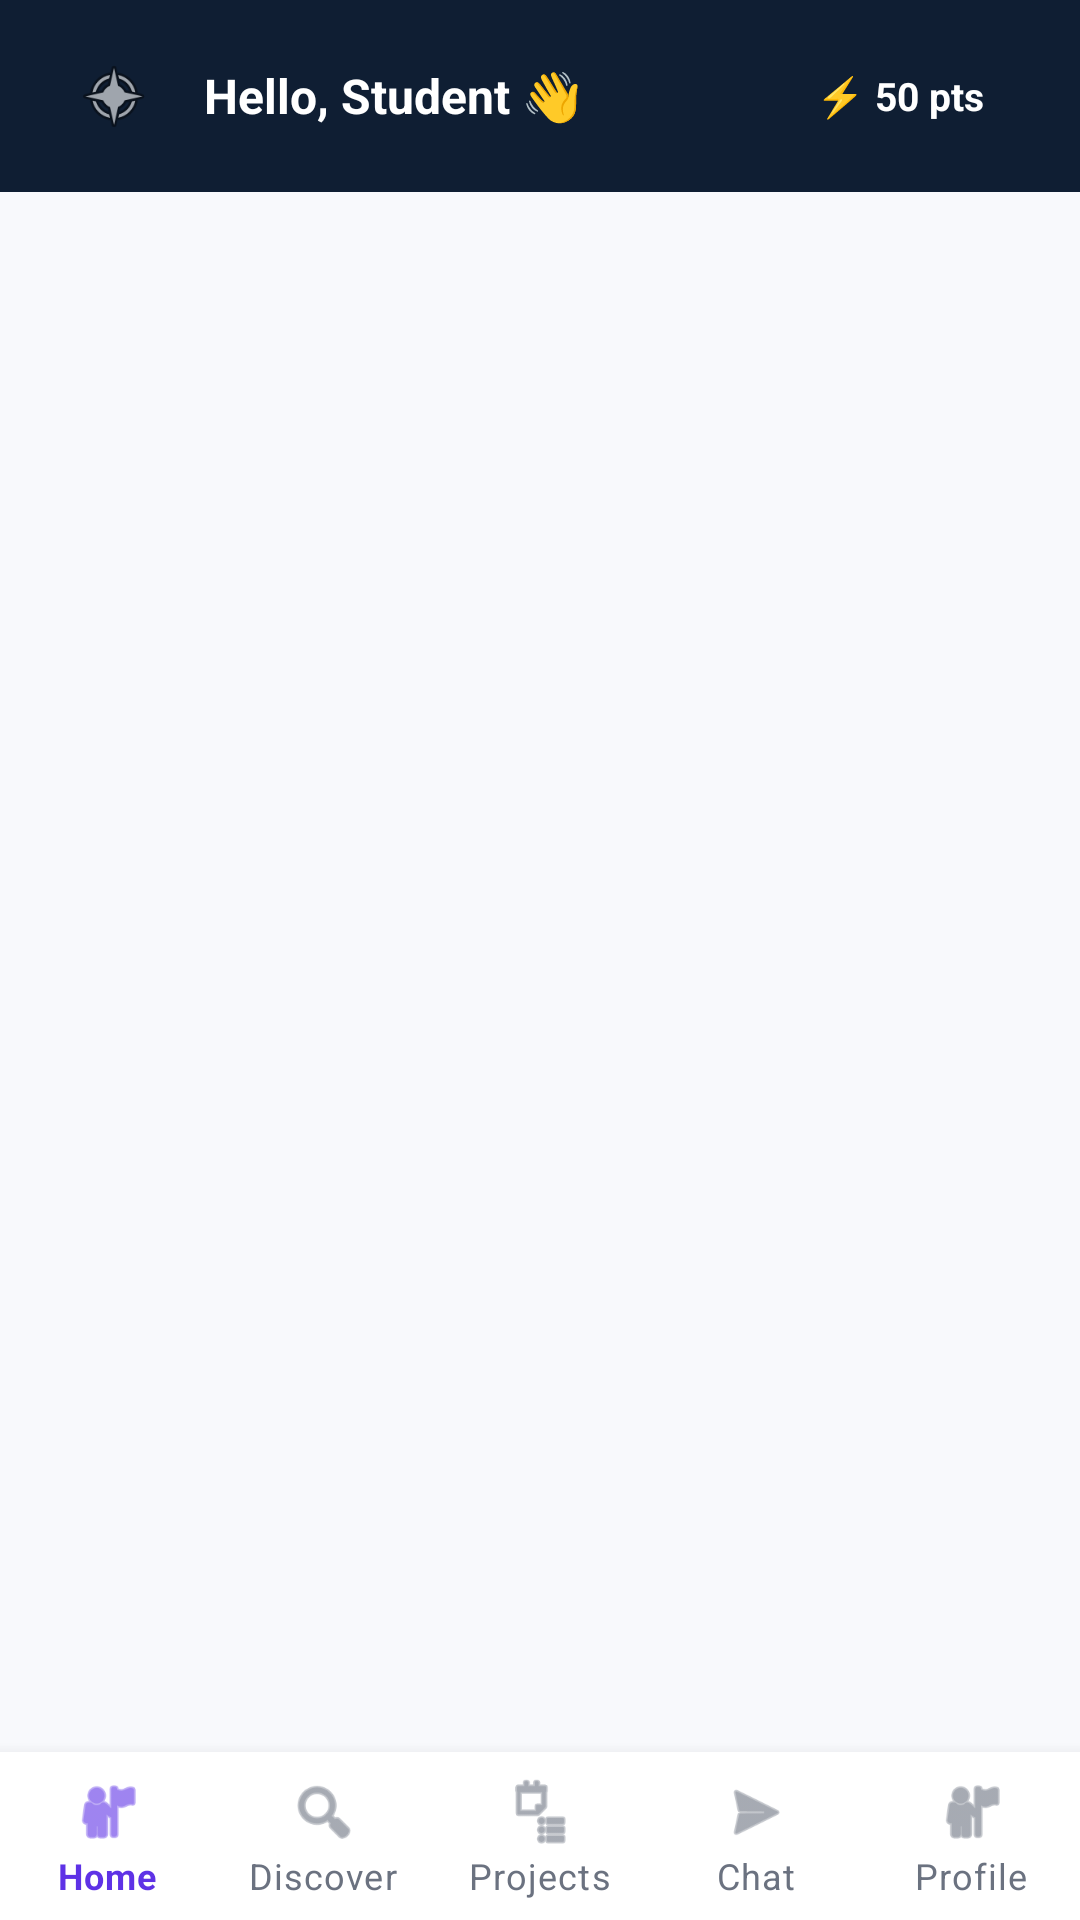

Icon click points for this 1080w x 1920h phone screenshot, format [x,y]:
compass: [114,96]
